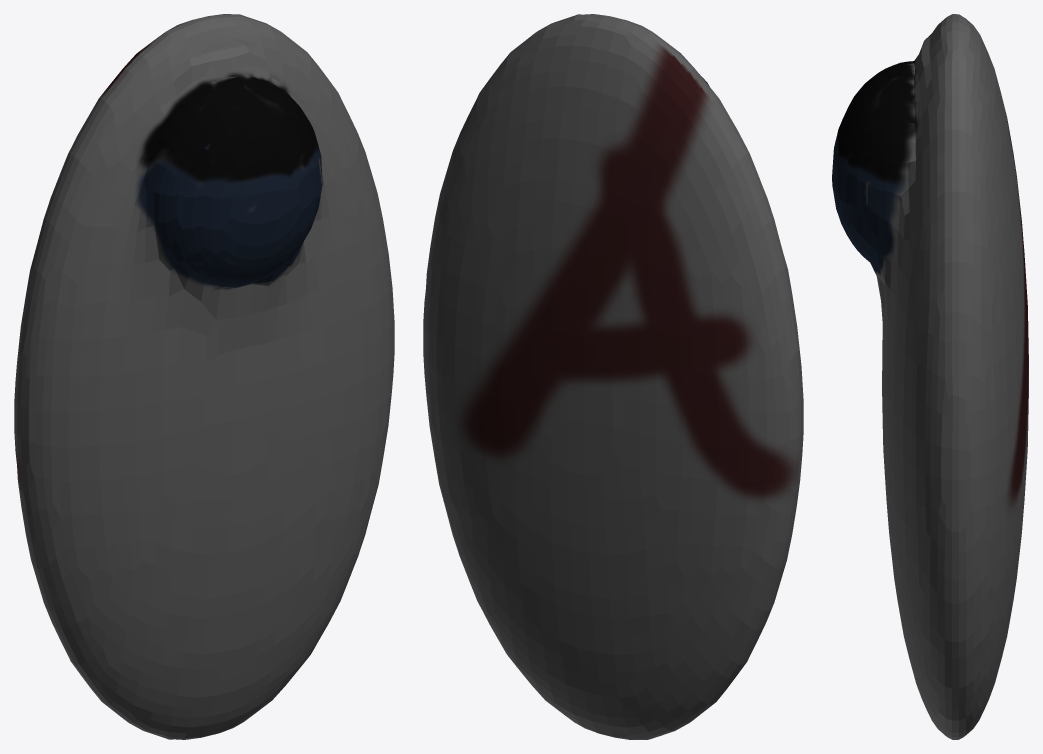
Rendered from Airo.glb.
3 renders of one model, left to right at view 1: azimuth 30°, elevation 25°; view 2: azimuth 150°, elevation 25°; view 3: azimuth 270°, elevation 25°, orthographic. The views are drawn at different scales.
Visible parts, largest first — view 1: Sphere; view 2: Sphere; view 3: Sphere.
Boxes of the visible parts, <box> form: Sphere: <box>14,14,394,739</box>; Sphere: <box>423,14,803,739</box>; Sphere: <box>832,14,1028,739</box>.
Bounding box in the file's own units: 3.4 × 6.26 × 1.59.
1 material, 1 textured.
